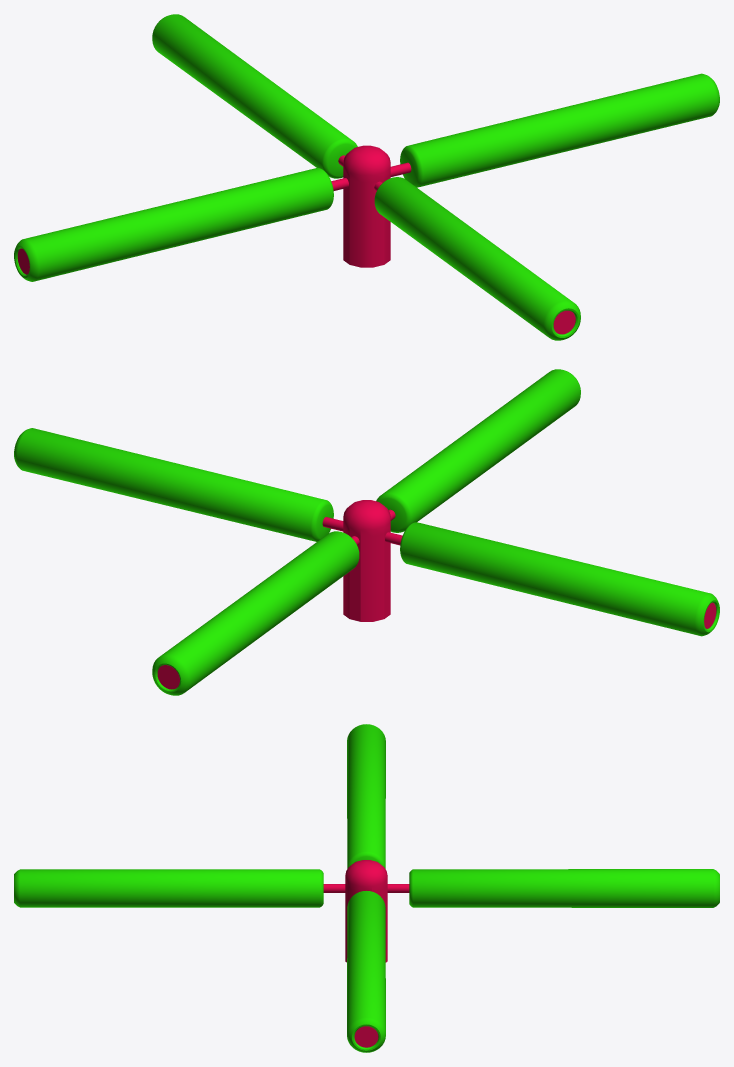
File: Horizontal_Cylinder.fbx
3 renders of one model, top to bottom at view 1: azimuth 30°, elevation 25°; view 2: azimuth 150°, elevation 25°; view 3: azimuth 270°, elevation 25°, orthographic. The views are drawn at different scales.
Parts seen in each view (by area): view 1: Turning_Cylinder; view 2: Turning_Cylinder; view 3: Turning_Cylinder.
Part boxes in pixels (x1,y1,x2,y2): Turning_Cylinder: (14,14,719,340); Turning_Cylinder: (14,369,719,695); Turning_Cylinder: (14,724,719,1052).
Bounding box in the file's own units: 973 × 148 × 973.
